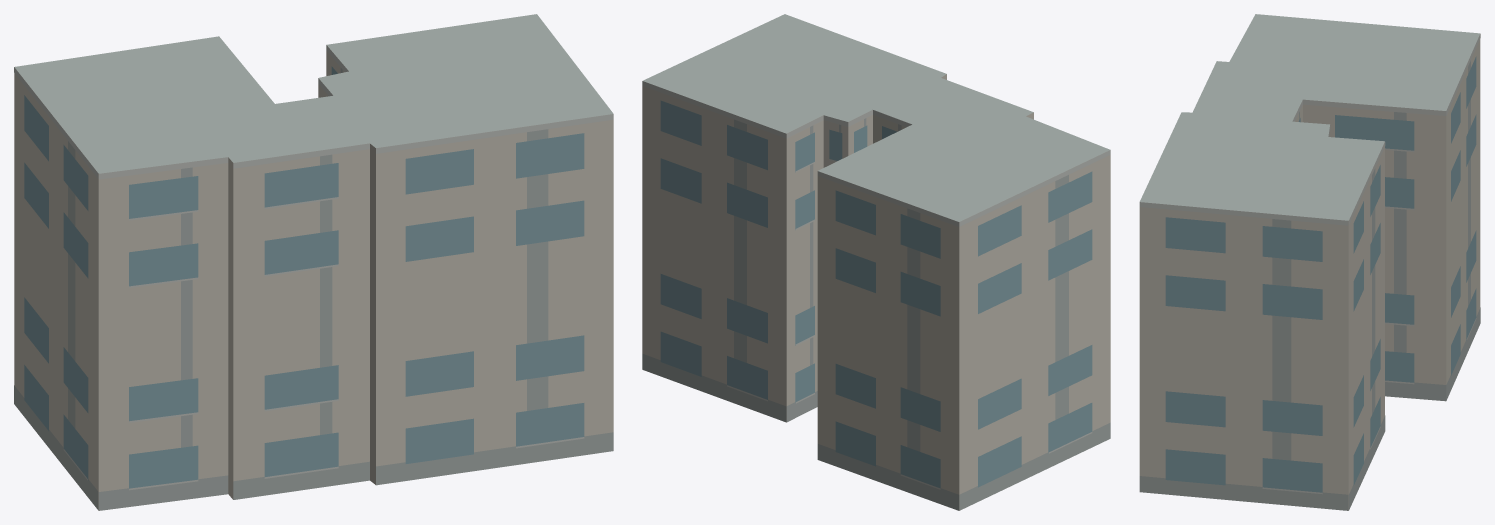
The model's file is survey-upis-32801099.glb.
The picture shows the model from 3 angles, left to right: view 1: azimuth 30°, elevation 25°; view 2: azimuth 150°, elevation 25°; view 3: azimuth 270°, elevation 25°; orthographic projection. The views are drawn at different scales.
Parts seen in each view (by area): view 1: survey-upis-32801099.tmp; view 2: survey-upis-32801099.tmp; view 3: survey-upis-32801099.tmp.
Part boxes in pixels (<box>): survey-upis-32801099.tmp: <box>14,14,613,510</box>; survey-upis-32801099.tmp: <box>642,14,1110,510</box>; survey-upis-32801099.tmp: <box>1139,14,1480,510</box>.
Bounding box in the file's own units: 21.8 × 14.25 × 15.19.
